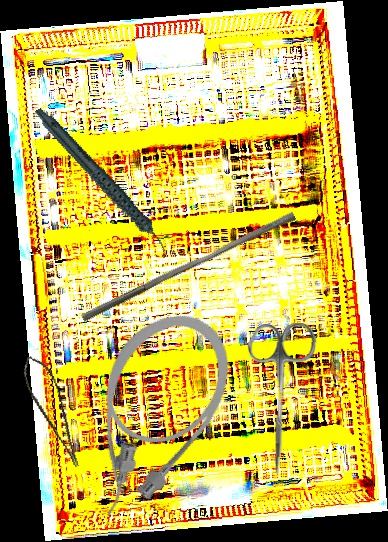Cannula: (44, 291, 254, 537)
Handpiece: (34, 87, 171, 279)
Iris Scissors: (245, 321, 317, 478)
Micro Scissor: (18, 351, 83, 474)
Pusher: (80, 203, 297, 331)
